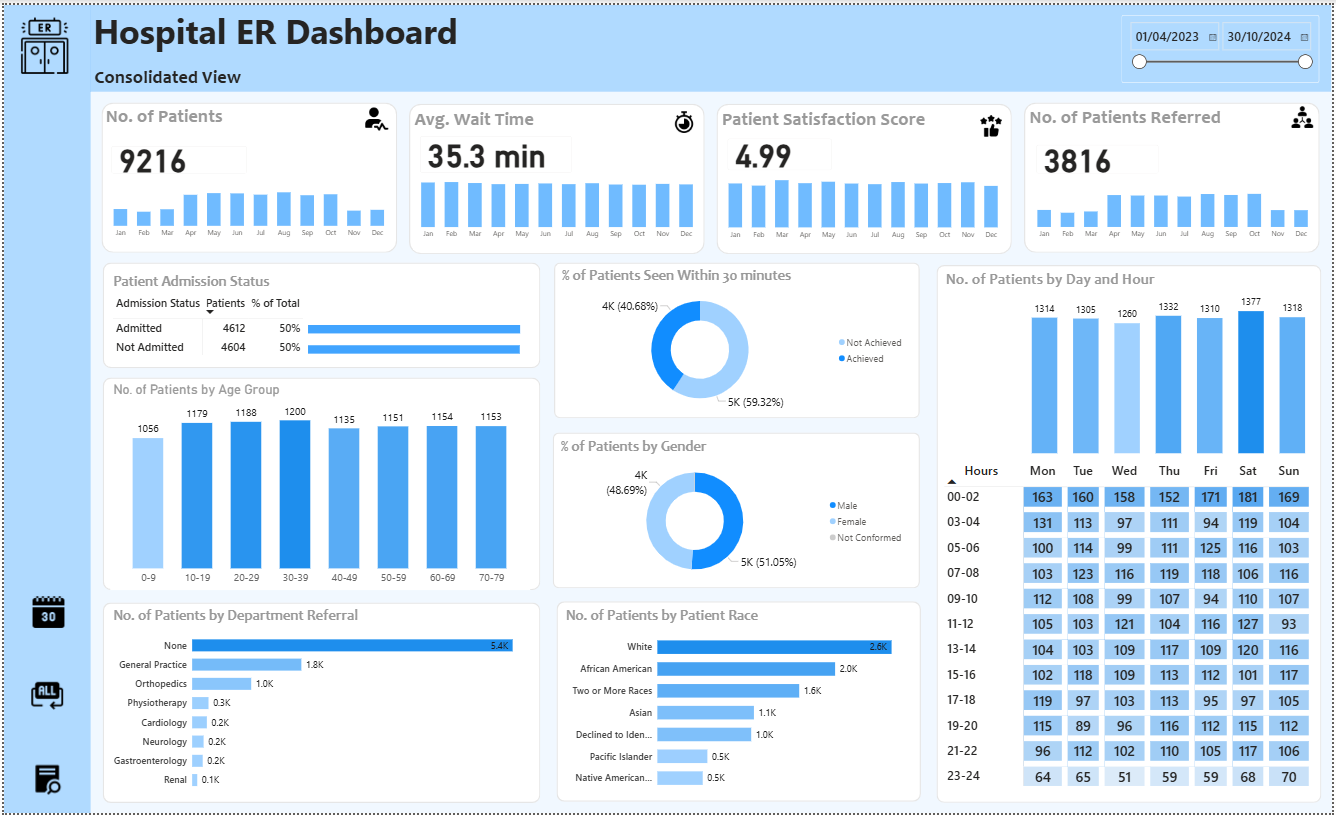

Layout of this report page (visuals, bound fields, positions):
{"tool":"powerbi","page":{"name":"Consolidated View","canvas":[2300,1400],"ordinal":1},"visuals":[{"type":"shape","box":[168.9,168.9,512,260.4],"z":0,"group":"g2"},{"type":"shape","box":[1766.4,168.9,512,260.4],"z":0,"group":"g5"},{"type":"shape","box":[701.4,171.2,512,260.4],"z":0,"group":"g3"},{"type":"shape","box":[1233.9,171.2,511.4,260.4],"z":0,"group":"g4"},{"type":"shape","box":[171.2,445.7,757.7,183],"z":0,"group":"g6"},{"type":"shape","box":[952.4,445.7,633.4,269.8],"z":0,"group":"g9"},{"type":"group","id":"g1","title":"Group 1","box":[1613.9,449.6,666.4,931.3],"z":0},{"type":"shape","box":[1613.9,449.6,666.4,931.3],"z":0,"group":"g1"},{"type":"shape","box":[171.2,645.1,757.7,368.3],"z":0,"group":"g7"},{"type":"shape","box":[950.1,741.3,635.7,269.8],"z":0,"group":"g10"},{"type":"shape","box":[956.3,1033.2,631,347.2],"z":0,"group":"g11"},{"type":"shape","box":[171.2,1034.5,757.7,347.2],"z":0,"group":"g8"},{"type":"shape","box":[0,0,150,1400.5],"z":1000},{"type":"pivotTable","fields":{"Rows":["Hospital ER_Data.Wait Time Intervals"],"Columns":["Date Table.Day"],"Values":["Hospital ER_Data.No. of Patients"]},"box":[1623.4,782.5,642.8,586.5],"z":1000,"group":"g1"},{"type":"shape","box":[150.1,0,2148.8,150.1],"z":2000},{"type":"columnChart","title":"No. of Patients by Day and Hour","fields":{"Category":["Date Table.Day"],"Y":["Hospital ER_Data.No. of Patients"]},"box":[1773.5,489.3,485.6,293.2],"z":2000,"group":"g1"},{"type":"textbox","box":[150.1,0,1083.8,98.5],"z":3000},{"type":"textbox","box":[152.5,98.5,269.8,51.6],"z":4000},{"type":"slicer","fields":{"Values":["Date Table.Date"]},"box":[1935.3,16.4,342.5,117.3],"z":5000},{"type":"cardVisual","fields":{"Data":["Hospital ER_Data.Average Wait Time"]},"box":[702.8,210.5,297.9,98.5],"z":5000,"group":"g3"},{"type":"cardVisual","fields":{"Data":["Avg(Hospital ER_Data.Patient Satisfaction Score)"]},"box":[1236.4,215.2,215.8,89.1],"z":5000,"group":"g4"},{"type":"cardVisual","fields":{"Data":["Hospital ER_Data.No. of Patients Referred Card"]},"box":[1770.1,225.4,246.3,84.5],"z":5000,"group":"g5"},{"type":"cardVisual","fields":{"Data":["Hospital ER_Data.Card_value"]},"box":[169.6,228.3,269.8,82.1],"z":5000,"group":"g2"},{"type":"group","id":"g2","title":"Group 1","box":[168.9,166.8,512,262.5],"z":6000},{"type":"group","id":"g3","title":"Group 1","box":[701.4,171.2,514.3,260.4],"z":7000},{"type":"textbox","box":[171.5,166.8,316.7,51.6],"z":8000,"group":"g2"},{"type":"textbox","box":[1770.1,169.1,426.9,56.3],"z":8000,"group":"g5"},{"type":"group","id":"g4","title":"Group 1","box":[1233.9,171.2,511.4,260.4],"z":8000},{"type":"textbox","box":[1238.8,173,391.8,56.3],"z":8000,"group":"g4"},{"type":"textbox","box":[704.9,173.7,316.7,51.6],"z":8000,"group":"g3"},{"type":"columnChart","fields":{"Y":["Avg(Hospital ER_Data.Patient Satisfaction Score)"],"Category":["Date Table.Month"]},"box":[1234.1,278.5,509.1,136.1],"z":9000,"group":"g4"},{"type":"columnChart","fields":{"Y":["Hospital ER_Data.No. of Patients"],"Category":["Date Table.Month"]},"box":[169.1,284.6,511.4,129],"z":9000,"group":"g2"},{"type":"columnChart","fields":{"Y":["Avg(Hospital ER_Data.Patient Waittime)"],"Category":["Date Table.Month"]},"box":[701.9,285.6,513.7,129],"z":9000,"group":"g3"},{"type":"columnChart","fields":{"Y":["Hospital ER_Data.No. of Patients Referred"],"Category":["Date Table.Month"]},"box":[1767.7,288.8,511.4,126.7],"z":9000,"group":"g5"},{"type":"textbox","box":[1625.7,451.9,455.1,51.6],"z":9000},{"type":"group","id":"g5","title":"Group 1","box":[1766.4,168.9,512.7,260.4],"z":10000},{"type":"group","id":"g6","title":"Group 1","box":[171.2,445.7,757.7,183],"z":11000},{"type":"pivotTable","title":"Patient Admission Status","fields":{"Values":["Hospital ER_Data.No. of Patients1","Hospital ER_Data.No. of Patients"],"Rows":["Hospital ER_Data.Admission Status"]},"box":[183.4,463.8,419.9,175.9],"z":12000},{"type":"barChart","fields":{"Category":["Hospital ER_Data.Admission Status"],"Y":["Hospital ER_Data.No. of Patients"]},"box":[520.8,523.1,408.2,105.6],"z":13000},{"type":"group","id":"g7","title":"Group 1","box":[171.2,645.1,757.7,368.3],"z":14000},{"type":"columnChart","fields":{"Category":["Hospital ER_Data.Age Group"],"Y":["Hospital ER_Data.No. of Patients"]},"box":[183,652.1,727.2,361.3],"z":15000},{"type":"group","id":"g8","title":"Group 1","box":[171.2,1034.5,757.7,347.2],"z":16000},{"type":"barChart","fields":{"Y":["Hospital ER_Data.No. of Patients"],"Category":["Hospital ER_Data.Department Referral"]},"box":[183,1041.6,727.2,330.8],"z":17000},{"type":"group","id":"g9","title":"Group 1","box":[952.4,445.7,633.4,269.8],"z":18000},{"type":"donutChart","title":"% of Patients Seen Within 30 minutes","fields":{"Category":["Hospital ER_Data.Wait Time Status"],"Y":["Hospital ER_Data.No. of Patients"]},"box":[961.8,452.8,607.6,258],"z":19000},{"type":"group","id":"g10","title":"Group 1","box":[950.1,741.3,635.7,269.8],"z":20000},{"type":"donutChart","title":"% of Patients by Gender","fields":{"Y":["Hospital ER_Data.No. of Patients"],"Category":["Hospital ER_Data.Patient Gender"]},"box":[959.5,748.3,609.9,258],"z":21000},{"type":"group","id":"g11","title":"Group 1","box":[956.3,1033.2,631,347.2],"z":22000},{"type":"barChart","fields":{"Y":["Hospital ER_Data.No. of Patients"],"Category":["Hospital ER_Data.Patient Race"]},"box":[968,1040.2,602.9,330.8],"z":23000},{"type":"image","box":[626.3,178.3,39.9,39.9],"z":24000},{"type":"image","box":[1158.9,183,39.9,37.5],"z":25000},{"type":"image","box":[1691.4,190,37.5,37.5],"z":26000},{"type":"image","box":[2228.6,175.9,37.5,37.5],"z":27000},{"type":"image","box":[21,21,97.4,97.4],"z":28000},{"type":"actionButton","box":[44.6,1020.1,63.3,63.3],"z":29000},{"type":"actionButton","box":[42.2,1164.4,63.3,63.3],"z":30000},{"type":"actionButton","box":[42.2,1308.6,63.3,63.3],"z":31000}]}

Visuals, with their boxes in screenshot pixels (x1, y1, x2, y2), scaled from the page's 2300x1400 canvas onto the 1336x815 screenshot:
shape: (98,98,396,250)
shape: (1026,98,1323,250)
shape: (407,100,705,251)
shape: (717,100,1014,251)
shape: (99,259,540,366)
shape: (553,259,921,417)
"Group 1" group: (937,262,1325,804)
shape: (937,262,1325,804)
shape: (99,376,540,590)
shape: (552,432,921,589)
shape: (555,601,922,804)
shape: (99,602,540,804)
shape: (0,0,87,814)
pivotTable - Hospital ER_Data.Wait Time Intervals x Date Table.Day: (943,456,1316,797)
shape: (87,0,1335,87)
"No. of Patients by Day and Hour" columnChart: (1030,285,1312,456)
textbox: (87,0,717,57)
textbox: (89,57,245,87)
slicer - Date Table.Date: (1124,10,1323,78)
cardVisual - Hospital ER_Data.Average Wait Time: (408,123,581,180)
cardVisual - Avg(Hospital ER_Data.Patient Satisfaction Score): (718,125,844,177)
cardVisual - Hospital ER_Data.No. of Patients Referred Card: (1028,131,1171,180)
cardVisual - Hospital ER_Data.Card_value: (99,133,255,181)
"Group 1" group: (98,97,396,250)
"Group 1" group: (407,100,706,251)
textbox: (100,97,284,127)
textbox: (1028,98,1276,131)
"Group 1" group: (717,100,1014,251)
textbox: (720,101,947,133)
textbox: (409,101,593,131)
columnChart - Avg(Hospital ER_Data.Patient Satisfaction Score) x Date Table.Month: (717,162,1013,241)
columnChart - Hospital ER_Data.No. of Patients x Date Table.Month: (98,166,395,241)
columnChart - Avg(Hospital ER_Data.Patient Waittime) x Date Table.Month: (408,166,706,241)
columnChart - Hospital ER_Data.No. of Patients Referred x Date Table.Month: (1027,168,1324,242)
textbox: (944,263,1209,293)
"Group 1" group: (1026,98,1324,250)
"Group 1" group: (99,259,540,366)
"Patient Admission Status" pivotTable: (107,270,350,372)
barChart - Hospital ER_Data.Admission Status x Hospital ER_Data.No. of Patients: (303,305,540,366)
"Group 1" group: (99,376,540,590)
columnChart - Hospital ER_Data.Age Group x Hospital ER_Data.No. of Patients: (106,380,529,590)
"Group 1" group: (99,602,540,804)
barChart - Hospital ER_Data.No. of Patients x Hospital ER_Data.Department Referral: (106,606,529,799)
"Group 1" group: (553,259,921,417)
"% of Patients Seen Within 30 minutes" donutChart: (559,264,912,414)
"Group 1" group: (552,432,921,589)
"% of Patients by Gender" donutChart: (557,436,912,586)
"Group 1" group: (555,601,922,804)
barChart - Hospital ER_Data.No. of Patients x Hospital ER_Data.Patient Race: (562,606,912,798)
image: (364,104,387,127)
image: (673,107,696,128)
image: (982,111,1004,132)
image: (1295,102,1316,124)
image: (12,12,69,69)
actionButton: (26,594,63,631)
actionButton: (25,678,61,715)
actionButton: (25,762,61,799)
